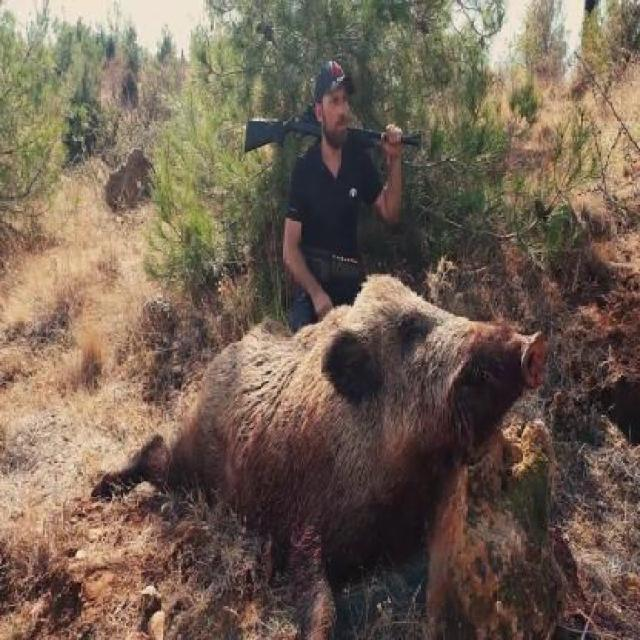wildboar: (89, 269, 546, 640)
